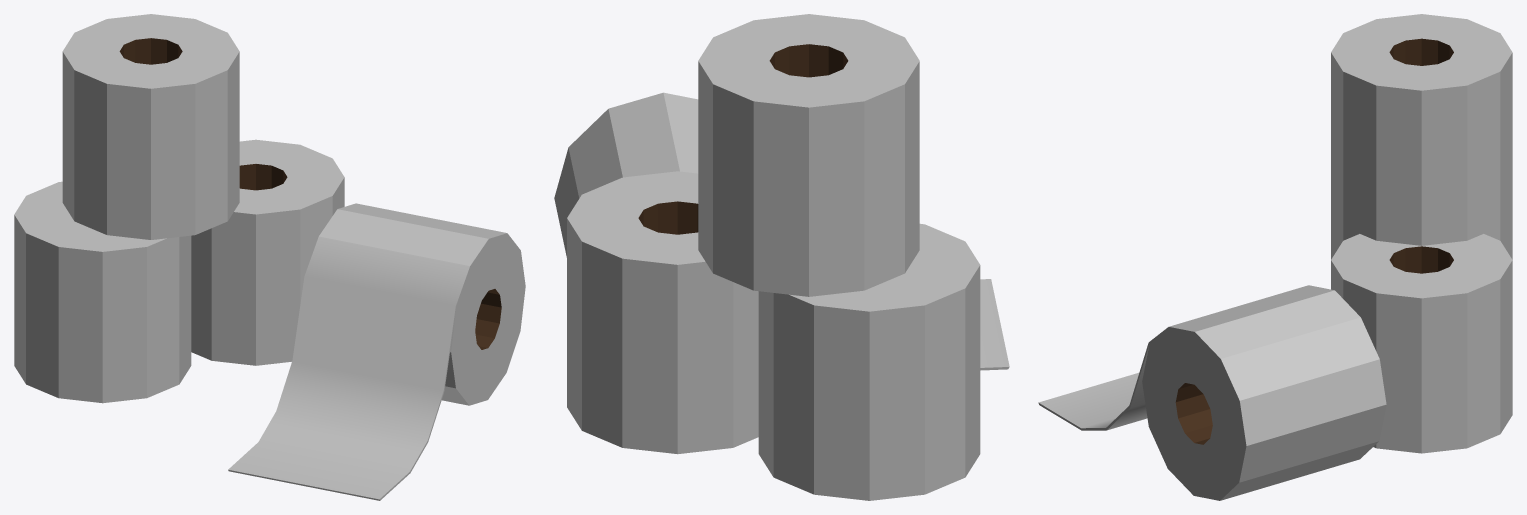
File: Toilet_Paper.fbx
The picture shows the model from 3 angles, left to right: view 1: azimuth 30°, elevation 25°; view 2: azimuth 150°, elevation 25°; view 3: azimuth 270°, elevation 25°; orthographic projection. The views are drawn at different scales.
Parts seen in each view (by area): view 1: Toilet_Paper; view 2: Toilet_Paper; view 3: Toilet_Paper.
Boxes of the visible parts, x1,y1,x2,y2 form: Toilet_Paper: (14,14,525,500); Toilet_Paper: (554,14,1009,500); Toilet_Paper: (1038,14,1512,500).
Size of the model in its own units: 6.69 by 4.99 by 6.47.
